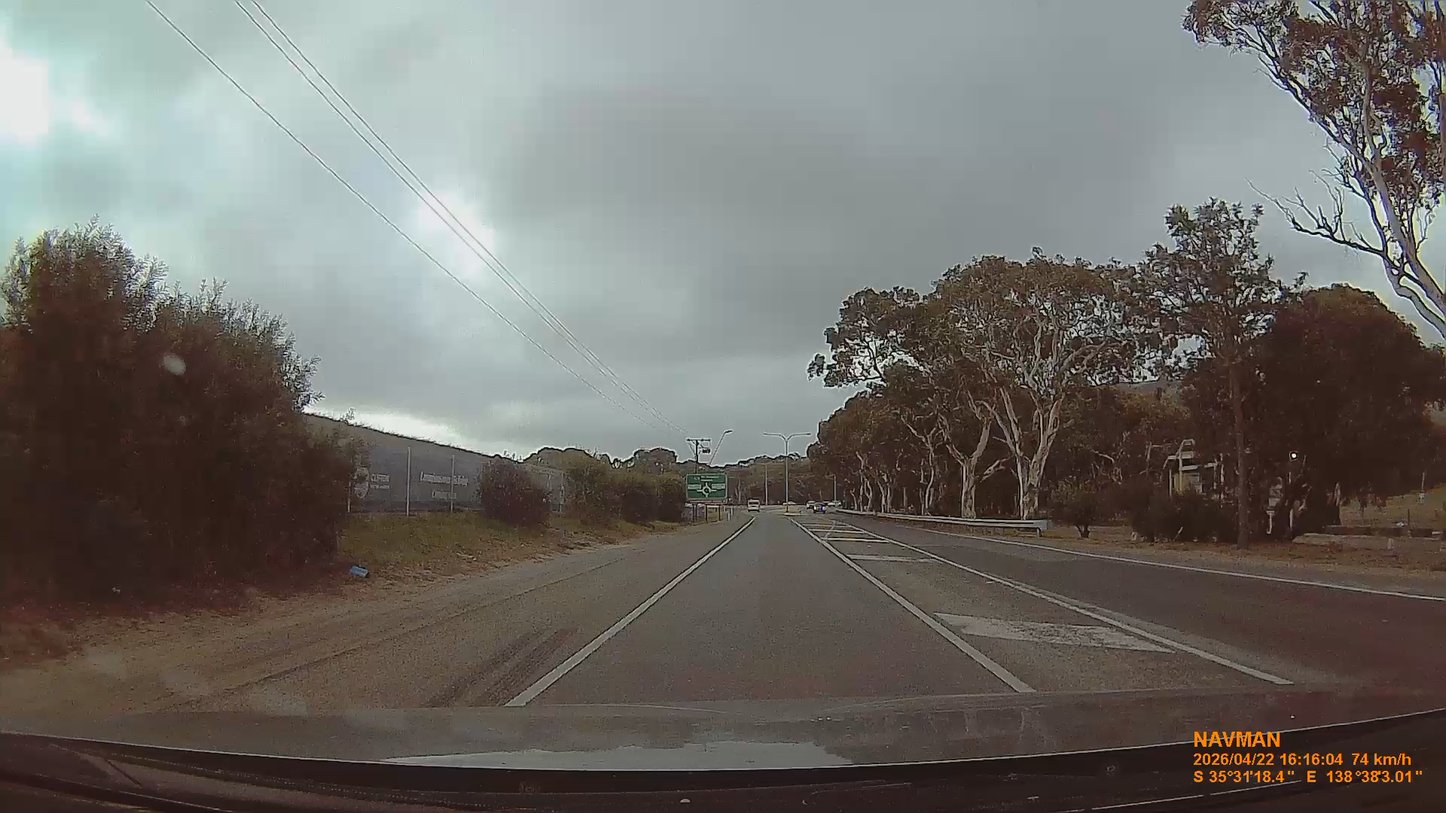road barriers: (840, 510, 1050, 536)
